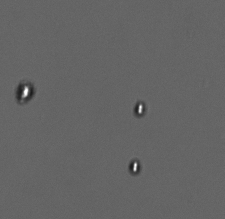Living Cell: (13, 80, 37, 105), (132, 99, 148, 117), (127, 158, 143, 176)
